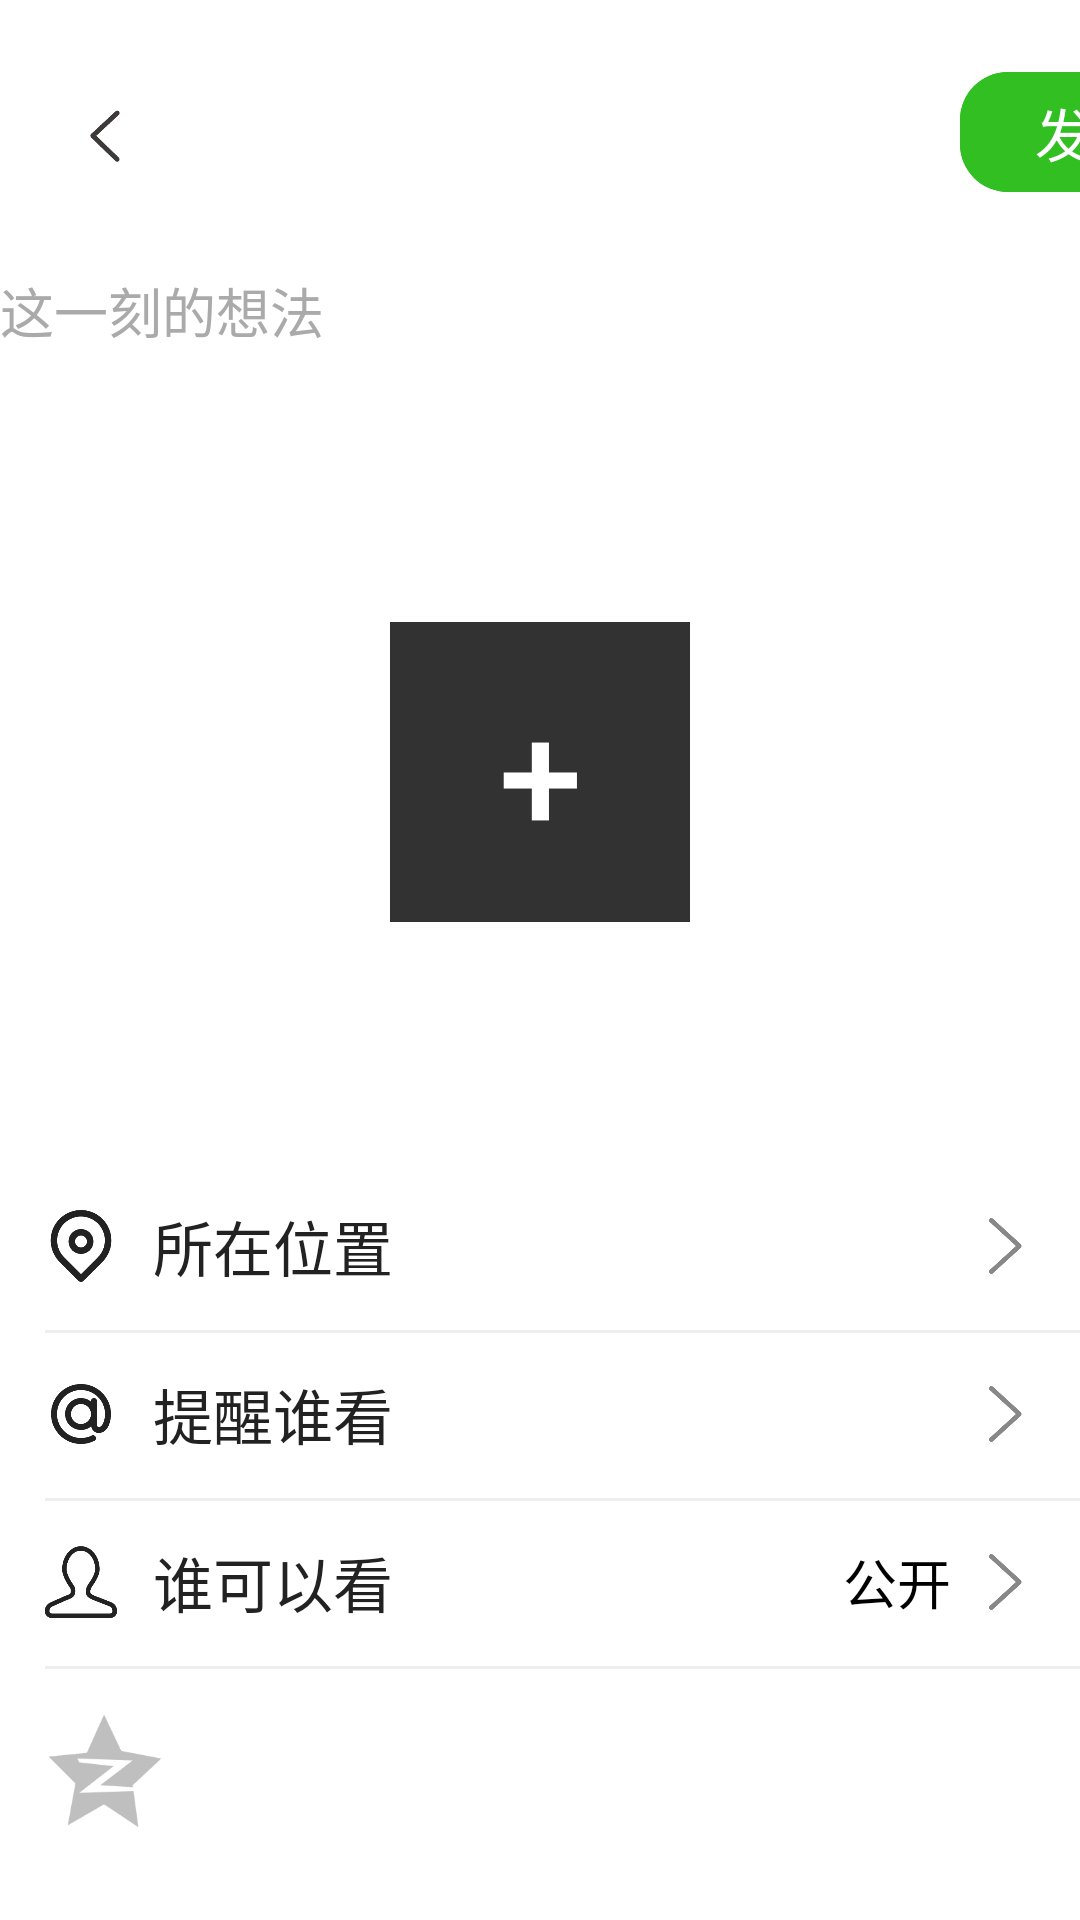

Screen size 1080*1920. Icon name, then its center in pixels as [x,y]:
aite: [81,1414]
people: [81,1582]
position: [81,1246]
return: [105,136]
right: [1005,1246], [1005,1414], [1005,1582]
